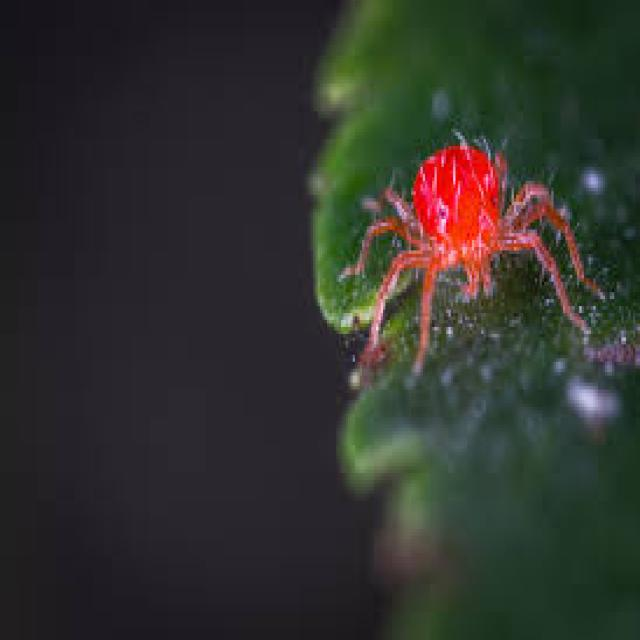Mites: (348, 128, 609, 369)
